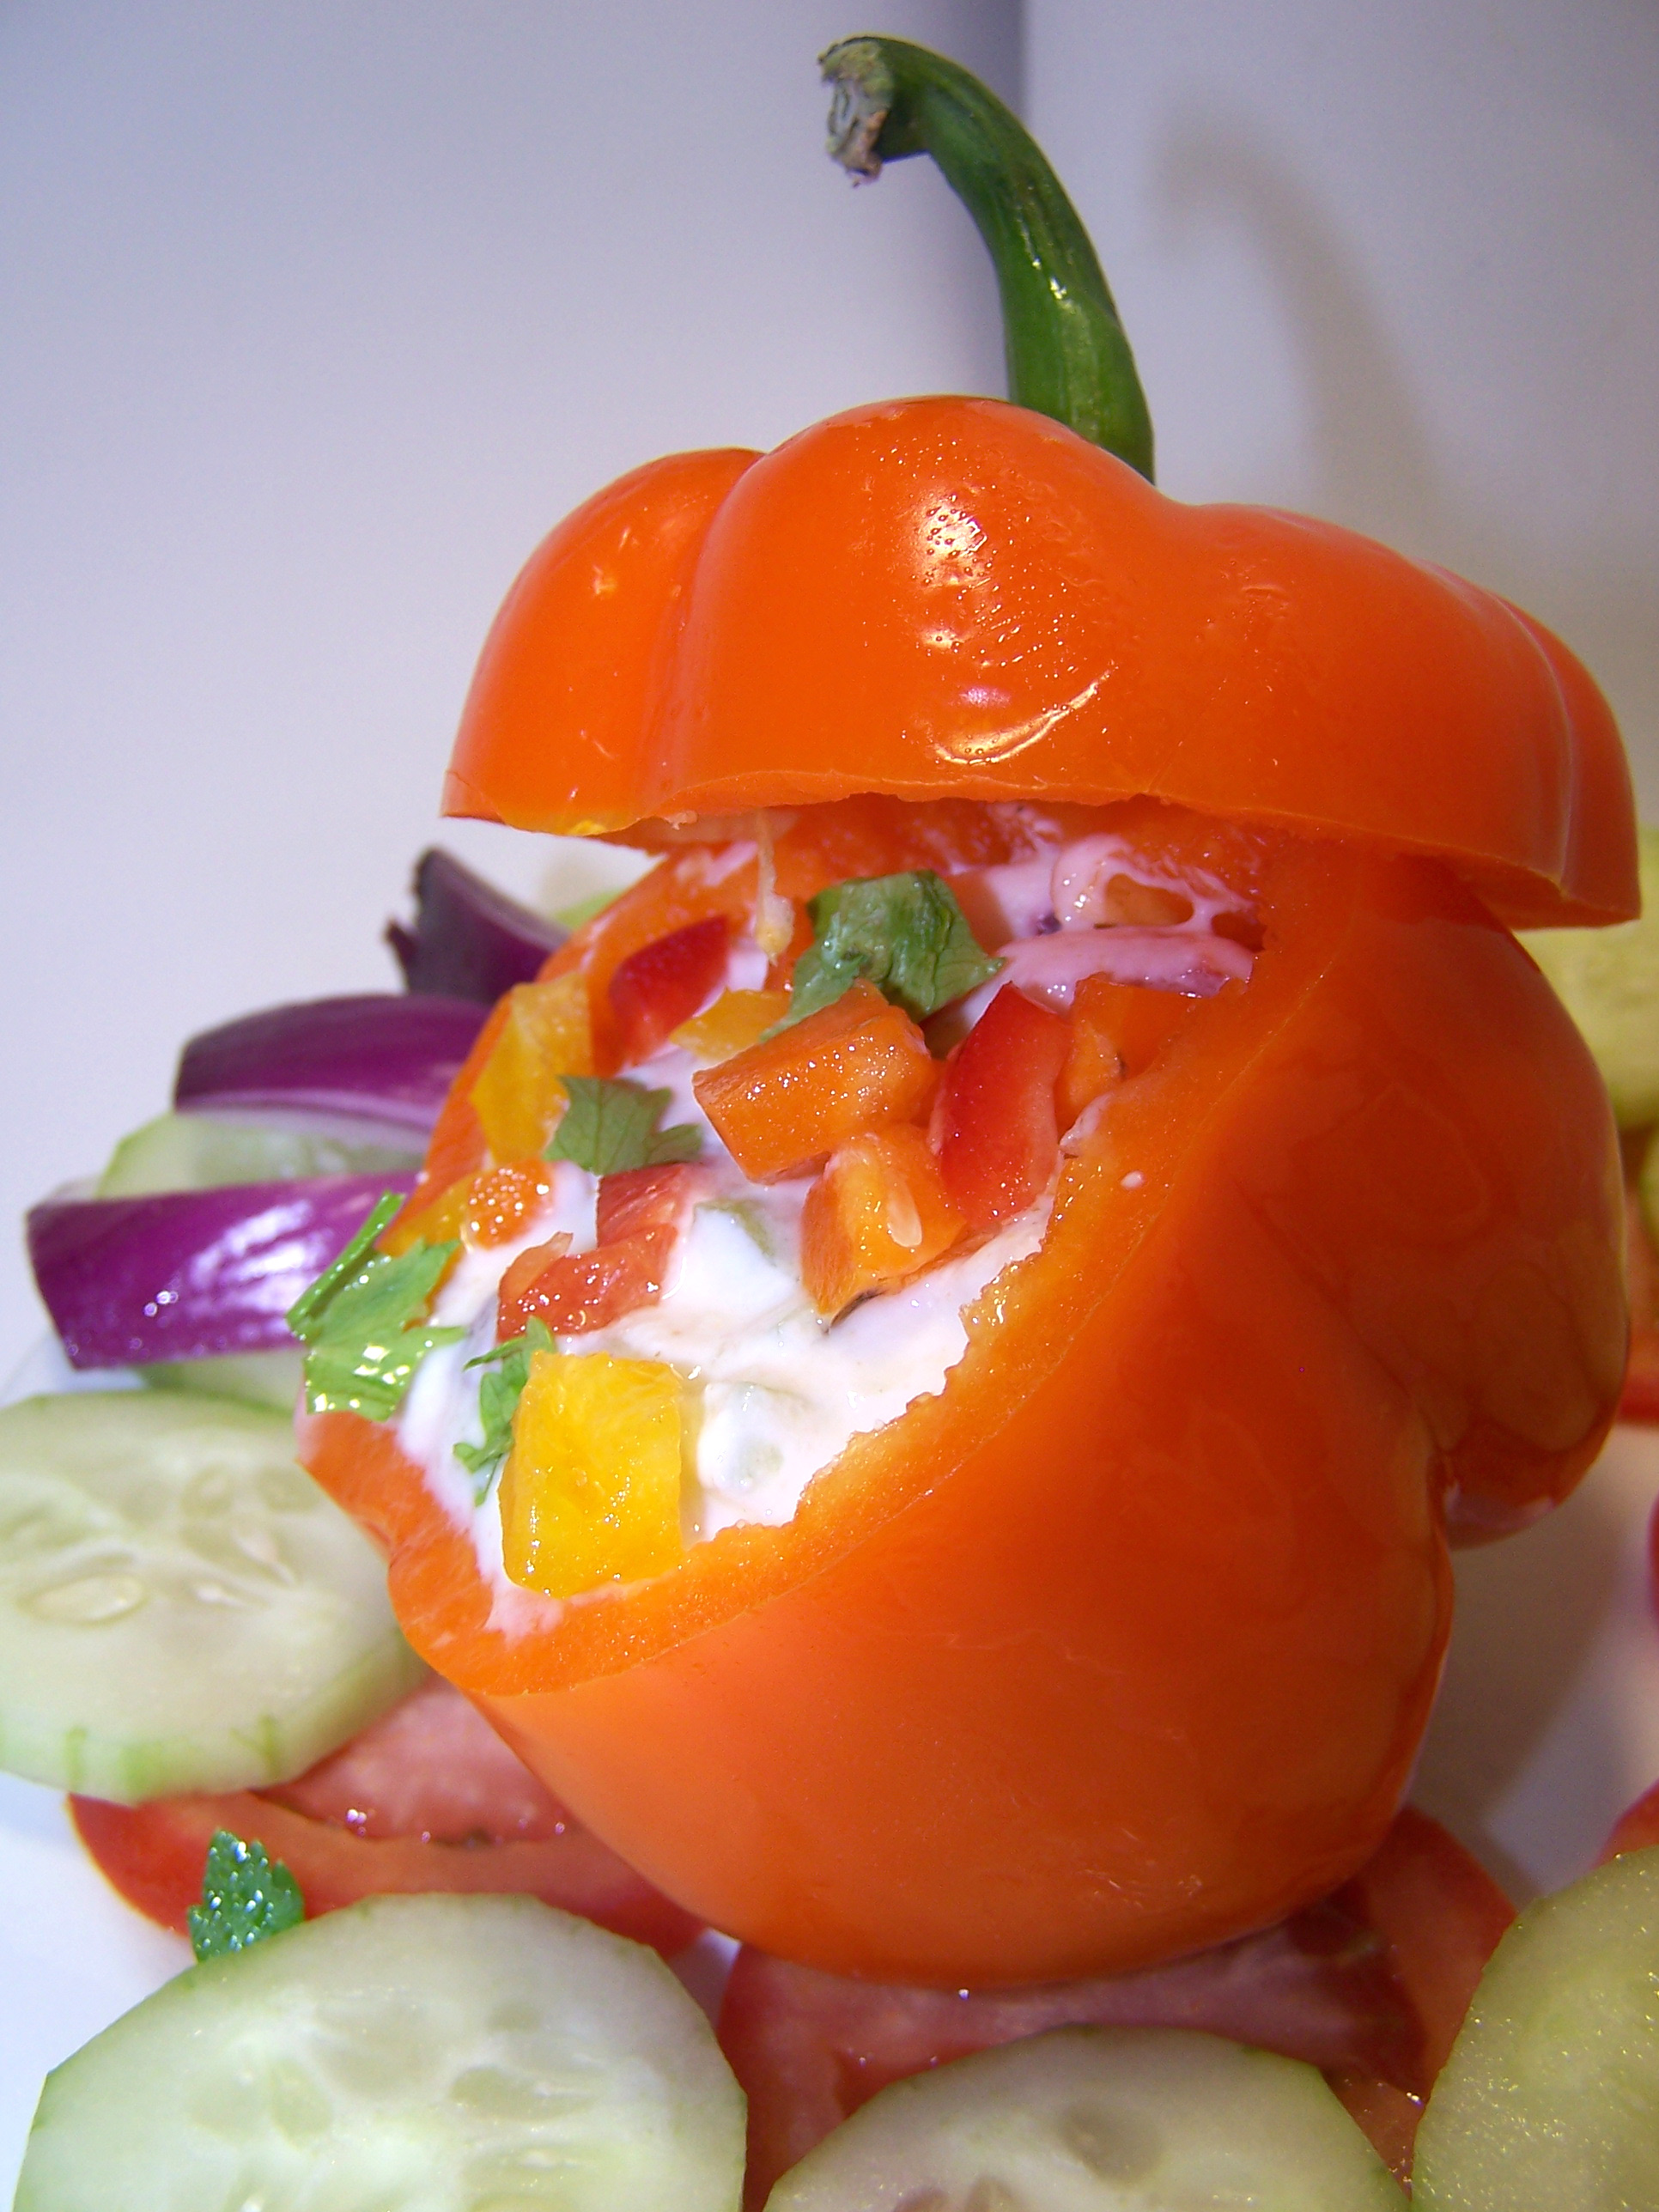capsicum: (288, 28, 1654, 1979)
